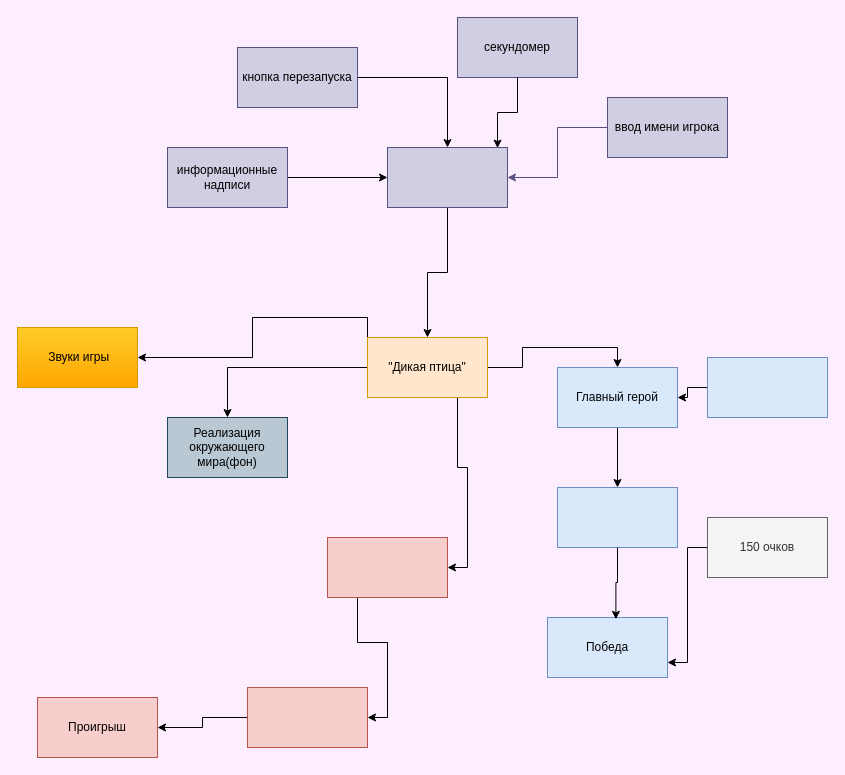
The diagram is 845 pixels wide and 775 high, and some of its shapes have lost their labels. The centre of each missing label's shape, as x and y in pixels:
"Анимации" belongs at [767,387].
"интерфейс игры" belongs at [447,177].
"Реализация препядствий" belongs at [387,567].
"Столкновение с препядствием" belongs at [307,717].
"Управление героем" belongs at [617,517].
